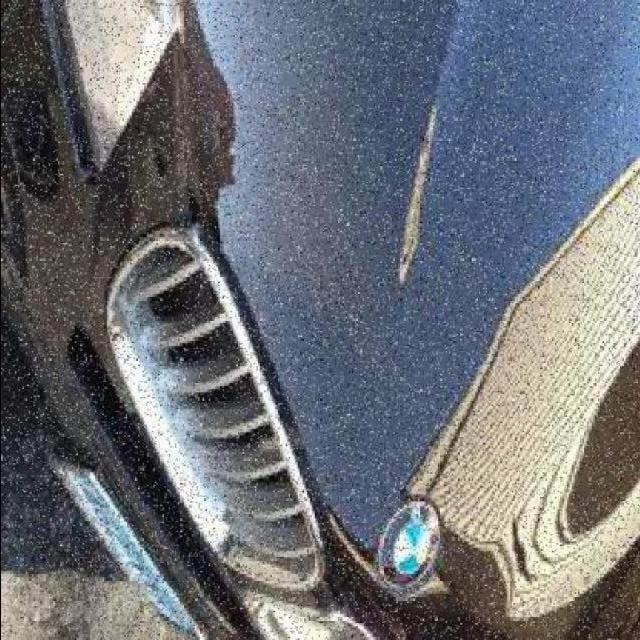bonnet-dent: (49, 0, 638, 443)
